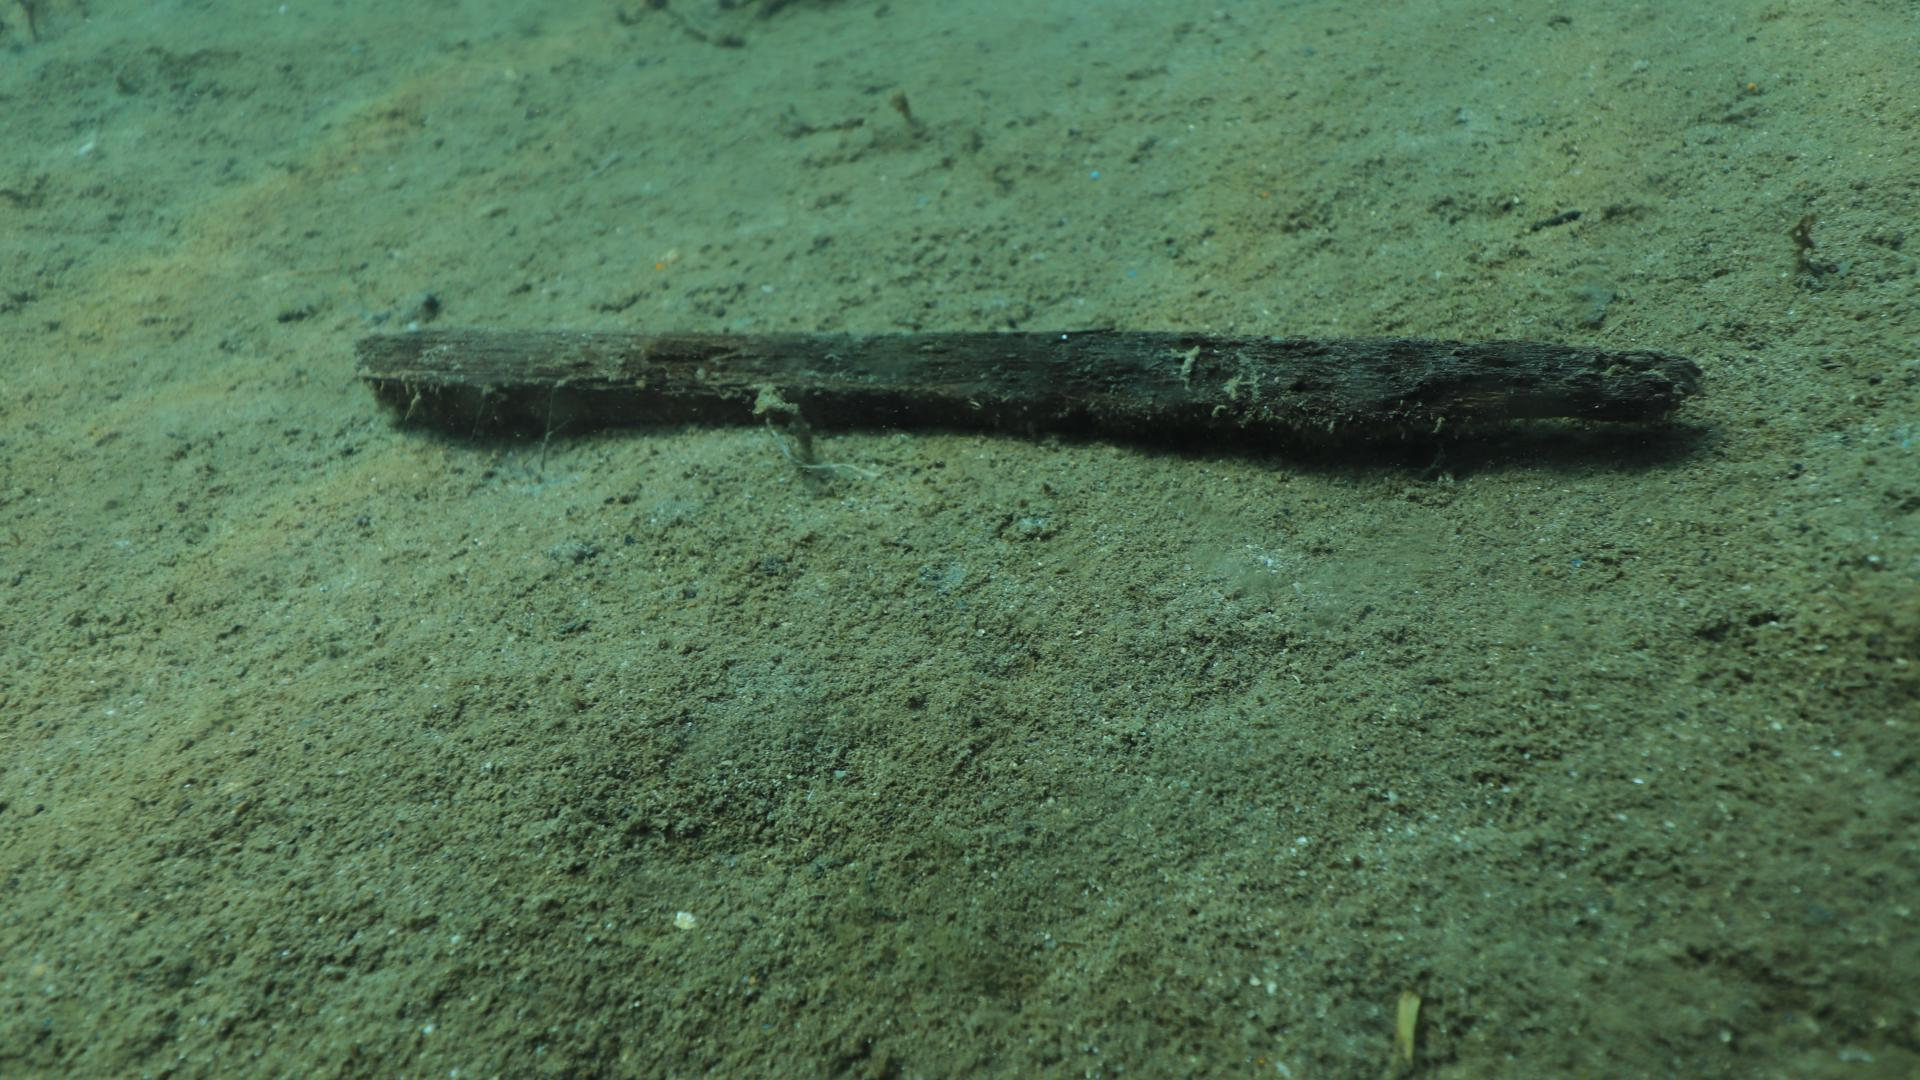wood: (351, 322, 1704, 436)
